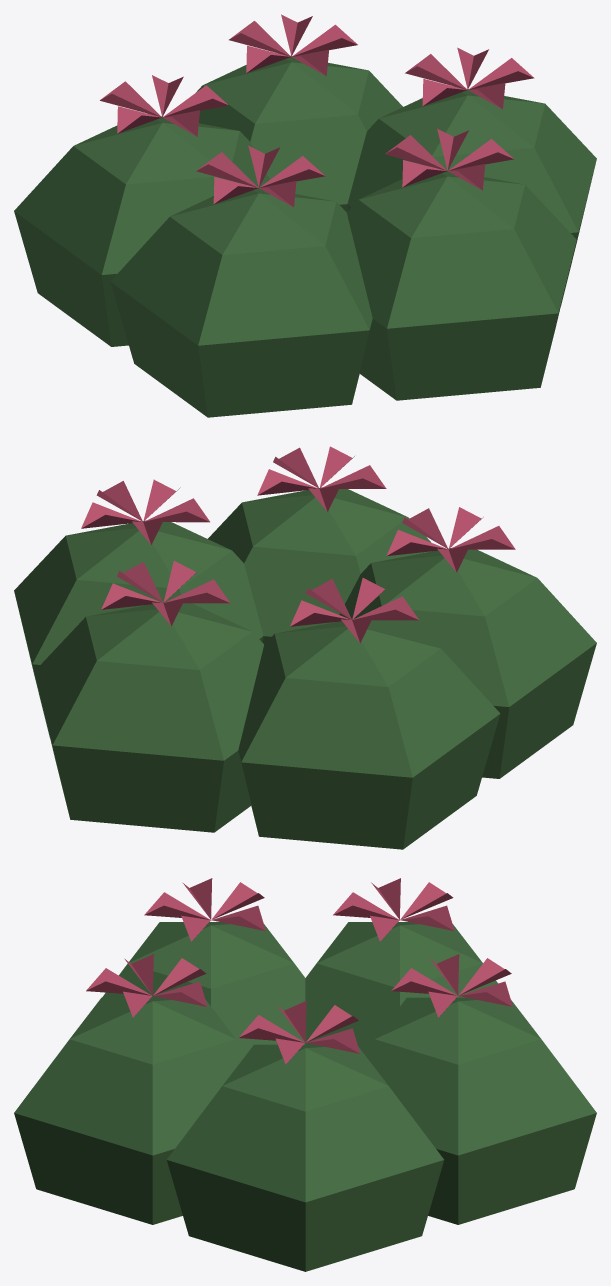
File: flowers.obj
3 renders of one model, top to bottom at view 1: azimuth 30°, elevation 25°; view 2: azimuth 150°, elevation 25°; view 3: azimuth 270°, elevation 25°, orthographic. The views are drawn at different scales.
Bounding box in the file's own units: 1.9 × 0.9 × 2.
